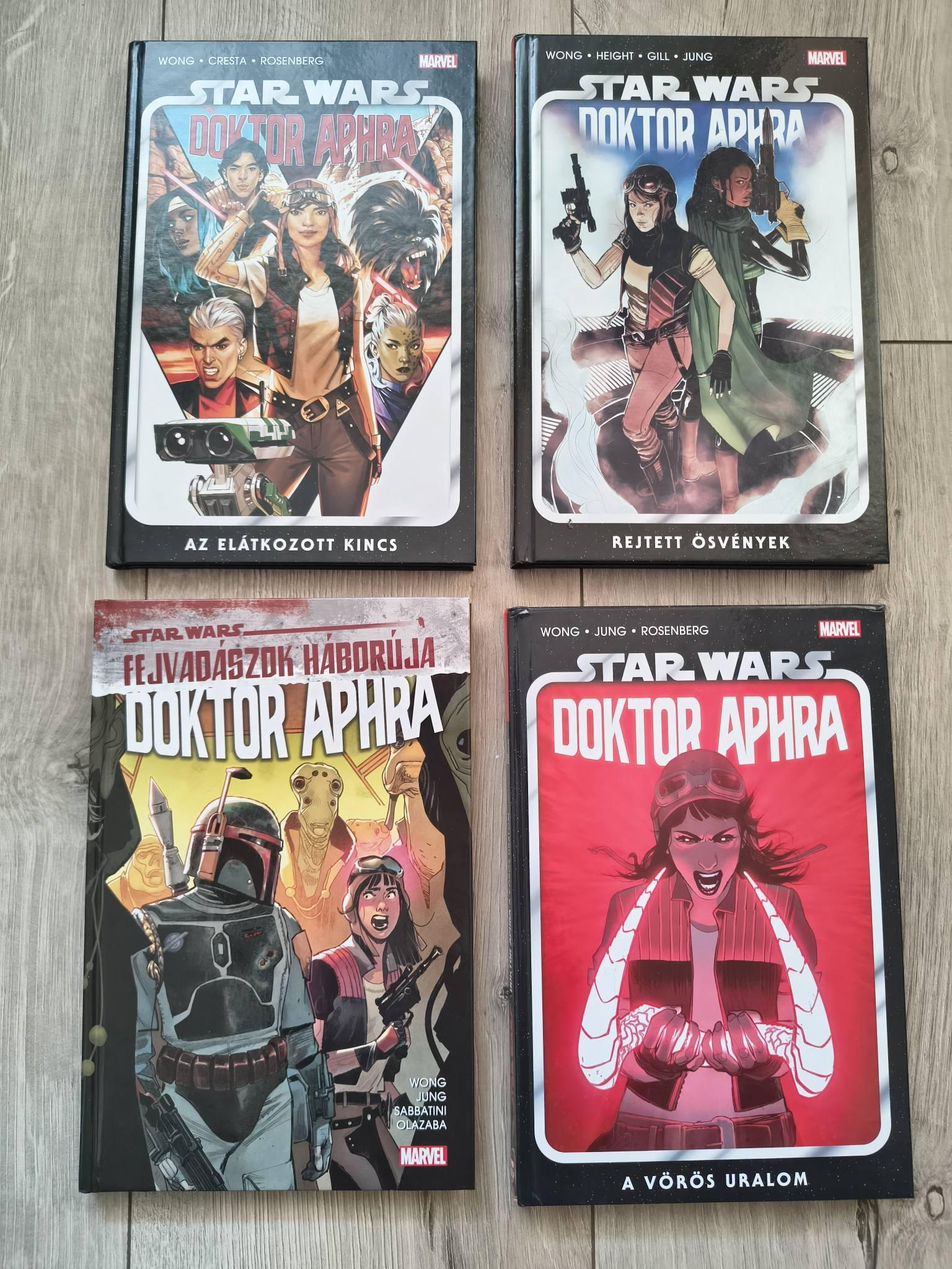comic: (508, 604, 911, 1204), (80, 599, 474, 1190), (514, 35, 888, 566), (107, 41, 475, 566)
